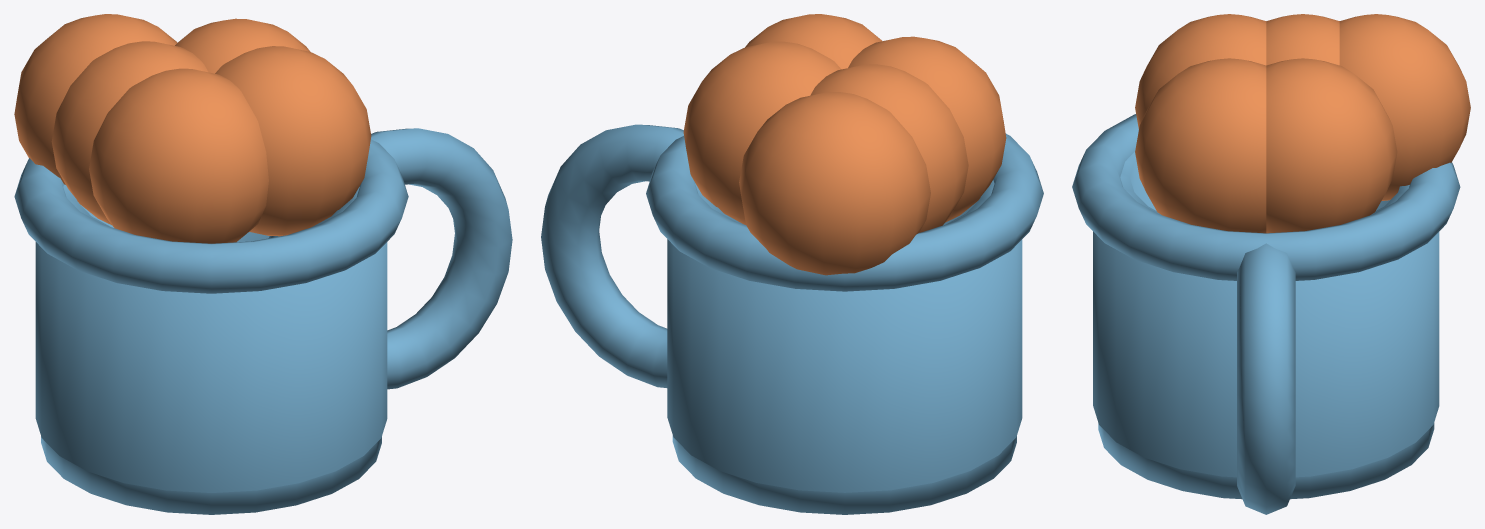
The model's file is ava-opposite-full.glb.
3 views of the same model, side by side, from view 1: azimuth 30°, elevation 25°; view 2: azimuth 150°, elevation 25°; view 3: azimuth 270°, elevation 25° (orthographic). The views are drawn at different scales.
Parts seen in each view (by area): view 1: hollow cup wall, filled cup, cup rim, filled cup.001, cup handle, filled cup.002, filled cup.004, cup base, filled cup.003; view 2: hollow cup wall, filled cup.004, cup rim, cup handle, filled cup.003, filled cup, filled cup.002, cup base, filled cup.001; view 3: hollow cup wall, cup rim, filled cup.001, filled cup.003, cup handle, filled cup.004, cup base, filled cup, filled cup.002.
Boxes of the visible parts, x1,y1,x2,y2 form: hollow cup wall: (35, 184, 387, 492); filled cup: (89, 68, 268, 243); cup rim: (14, 139, 408, 293); filled cup.001: (215, 46, 371, 236); cup handle: (269, 128, 512, 389); filled cup.002: (51, 41, 208, 224); filled cup.004: (14, 14, 177, 184); cup base: (41, 436, 381, 514); filled cup.003: (175, 18, 310, 73); hollow cup wall: (667, 180, 1022, 492); filled cup.004: (739, 92, 930, 275); cup rim: (646, 133, 1043, 291); cup handle: (541, 124, 683, 387); filled cup.003: (683, 41, 841, 224); filled cup: (848, 36, 1006, 222); filled cup.002: (810, 64, 968, 232); cup base: (672, 435, 1016, 514); filled cup.001: (745, 14, 882, 69); hollow cup wall: (1093, 152, 1439, 477); cup rim: (1072, 114, 1460, 280); filled cup.001: (1135, 58, 1266, 233); filled cup.003: (1266, 58, 1397, 233); cup handle: (1237, 243, 1295, 514); filled cup.004: (1339, 14, 1470, 200); cup base: (1098, 423, 1434, 499); filled cup: (1135, 14, 1266, 128); filled cup.002: (1266, 14, 1339, 65).
Bounding box in the file's own units: 0.508 × 0.405 × 0.38.
